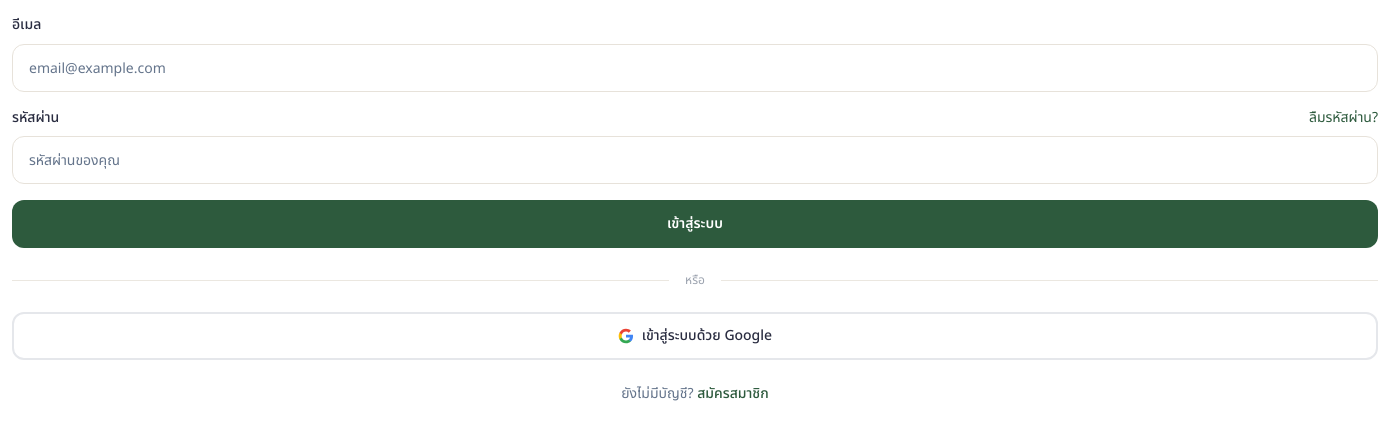
it: LoginForm › Form Validation › shows validation error for invalid email format
In the field labelled "อีเมล": (695, 68) [12, 44, 1378, 92], type "notanemail"
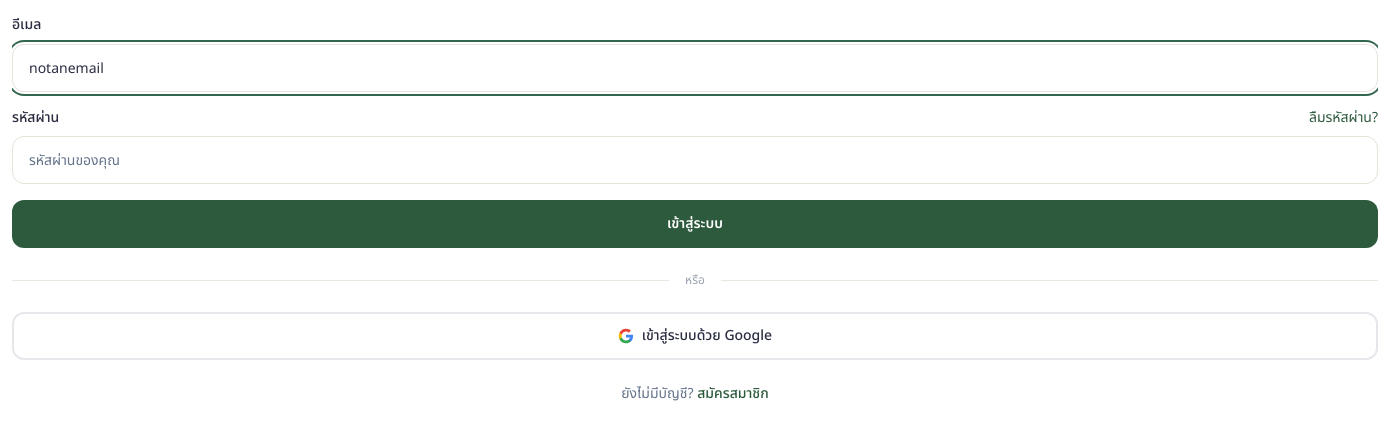
In the password field labelled "รหัสผ่าน": (695, 160) [12, 136, 1378, 184], type "somepassword"
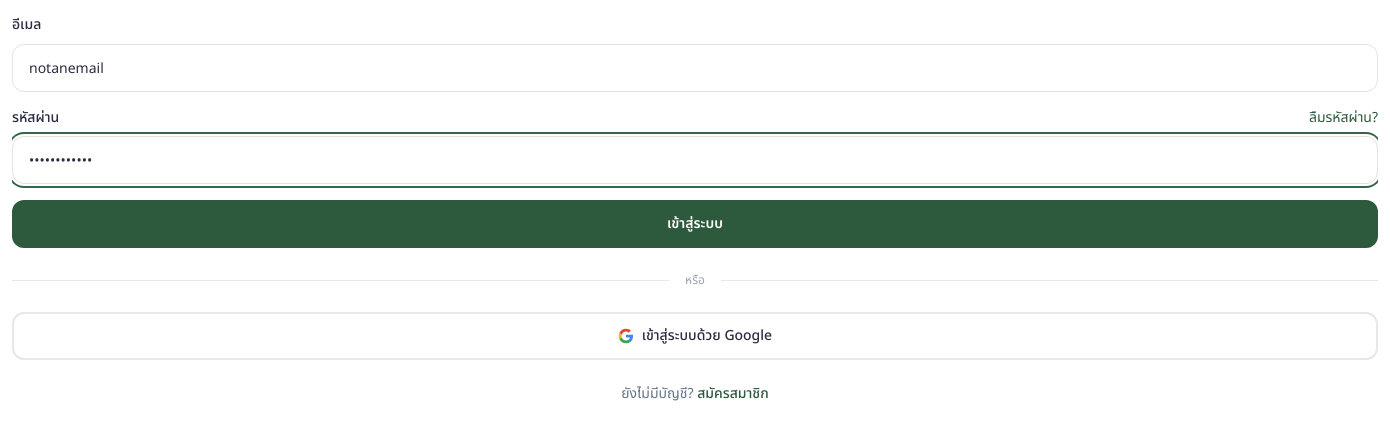
# Trigger form submission
Click the button "เข้าสู่ระบบ": (695, 224) [12, 200, 1378, 248]
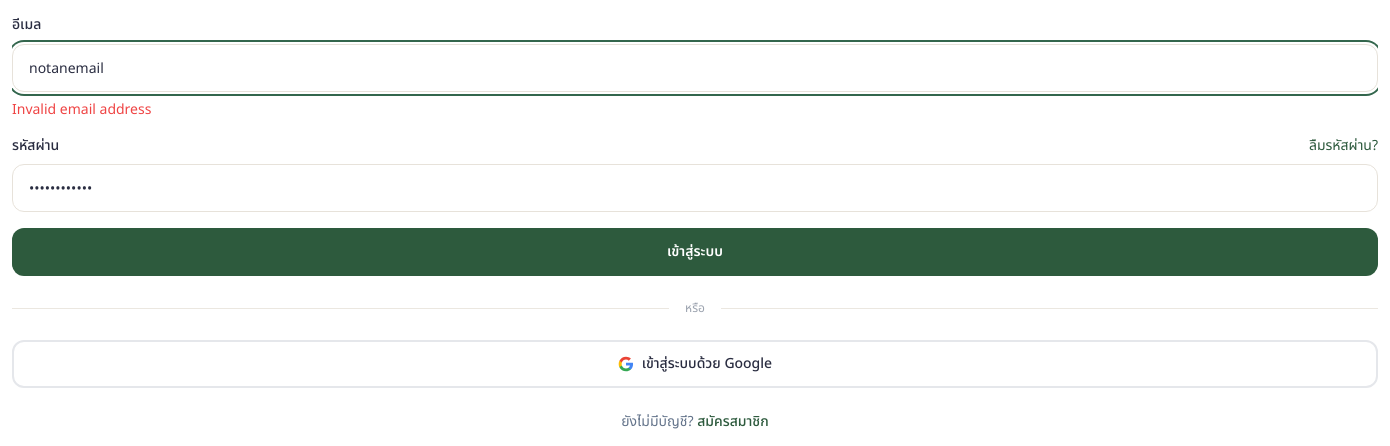
Check: the text "Invalid email address" is shown, box [12, 99, 151, 120]
